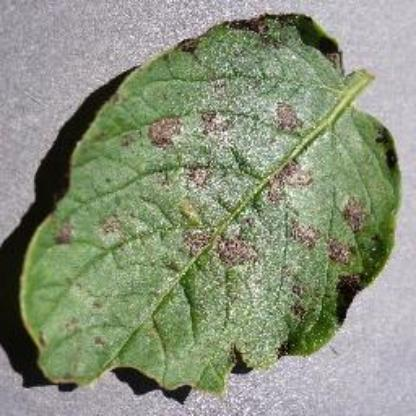Early-Blight: (14, 10, 404, 398)
